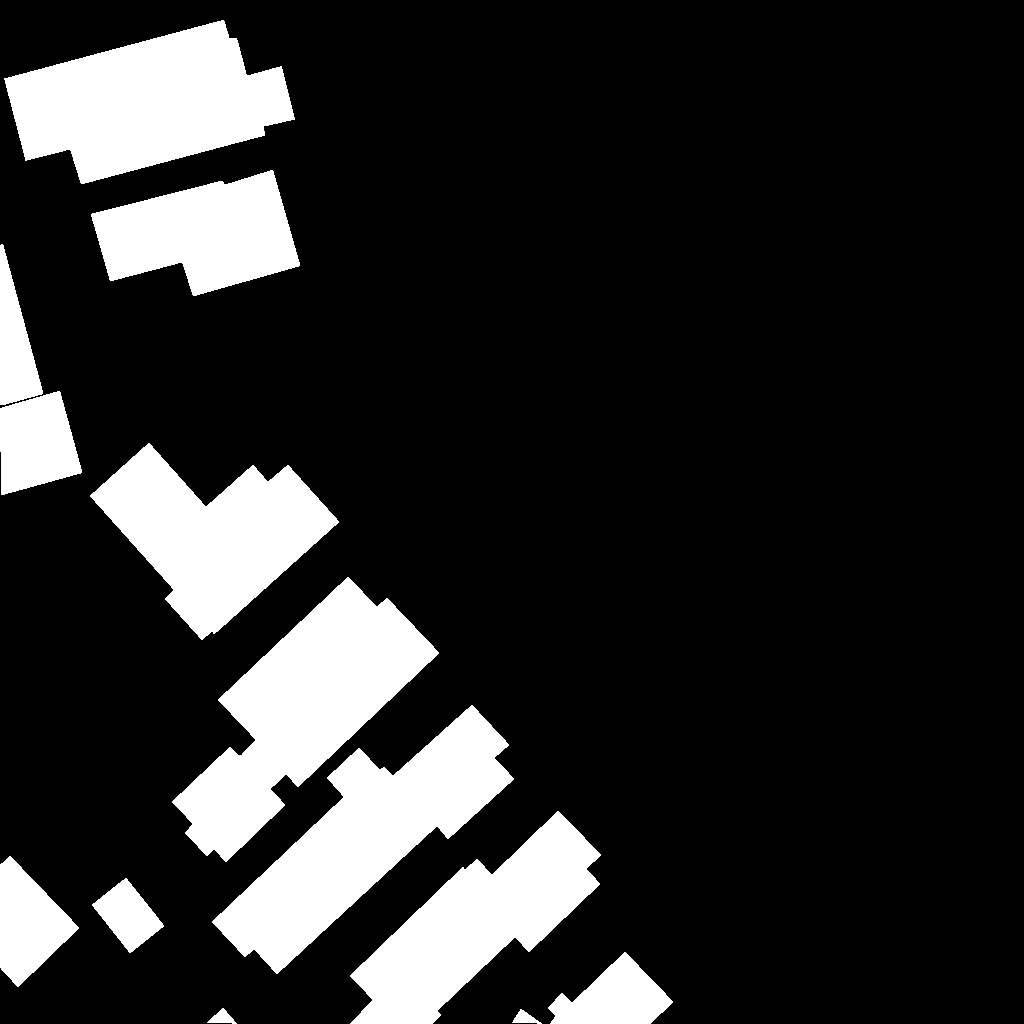building: (212, 705, 515, 975), (350, 811, 602, 1024), (90, 443, 340, 641), (4, 20, 296, 185), (218, 577, 440, 788), (91, 170, 301, 297), (172, 747, 286, 863), (512, 952, 674, 1024), (0, 856, 80, 988), (0, 391, 83, 496), (0, 244, 44, 406), (92, 878, 165, 954), (207, 1008, 238, 1024)
